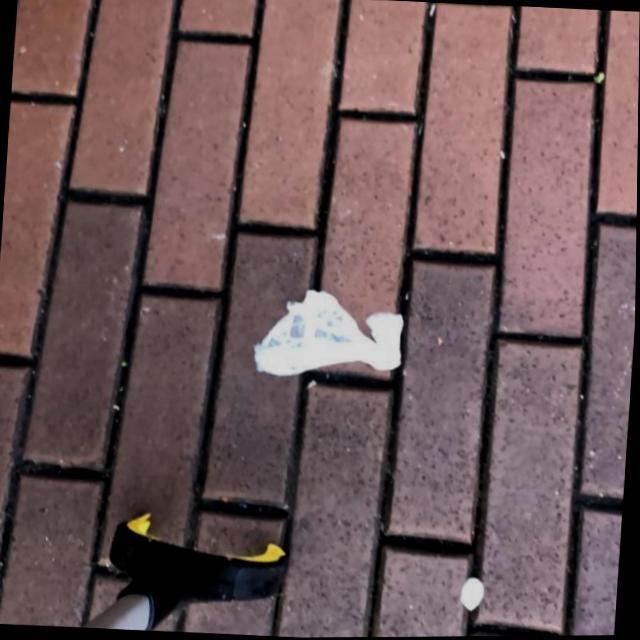Paper: (249, 285, 409, 386)
